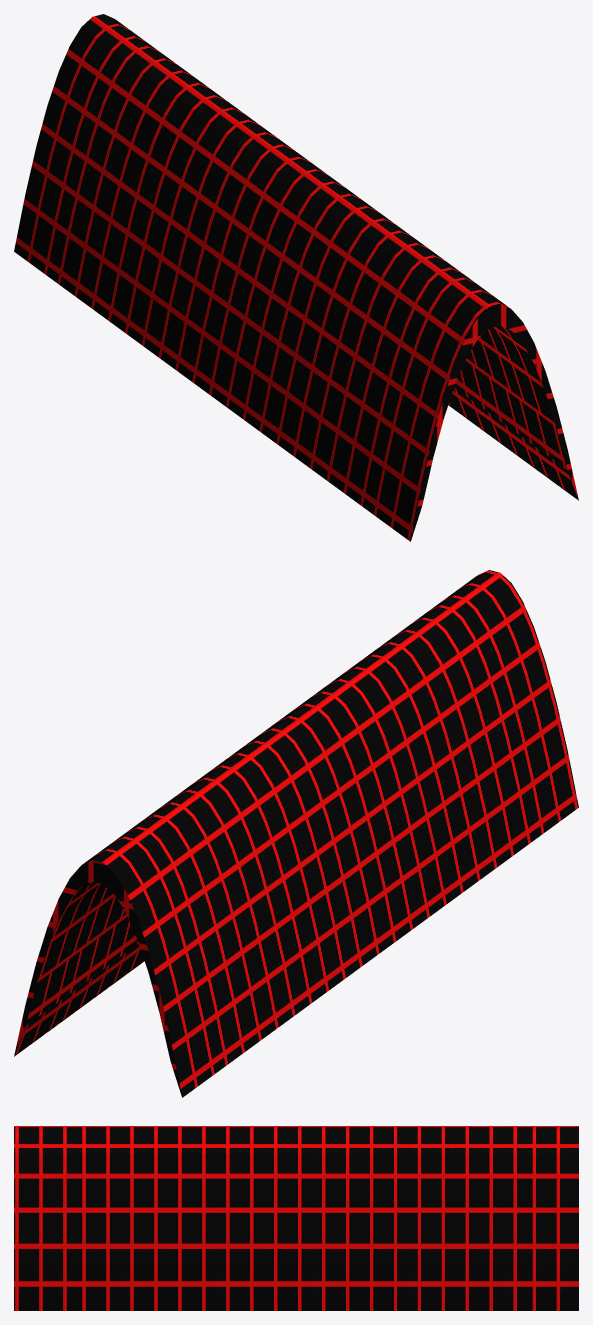
File: parabolic_cylinder_30.obj
The picture shows the model from 3 angles, top to bottom: view 1: azimuth 30°, elevation 25°; view 2: azimuth 150°, elevation 25°; view 3: azimuth 270°, elevation 25°; orthographic projection. The views are drawn at different scales.
Visible parts, largest first — view 1: z_20_Z_Function; view 2: z_20_Z_Function; view 3: z_20_Z_Function.
Boxes of the visible parts, x1=… form: z_20_Z_Function: x1=14, y1=14, x2=578, y2=541; z_20_Z_Function: x1=14, y1=570, x2=578, y2=1097; z_20_Z_Function: x1=14, y1=1126, x2=578, y2=1310.
Size of the model in its own units: 24.5 by 30 by 100.
Materials: 1 (1 with a texture image).
